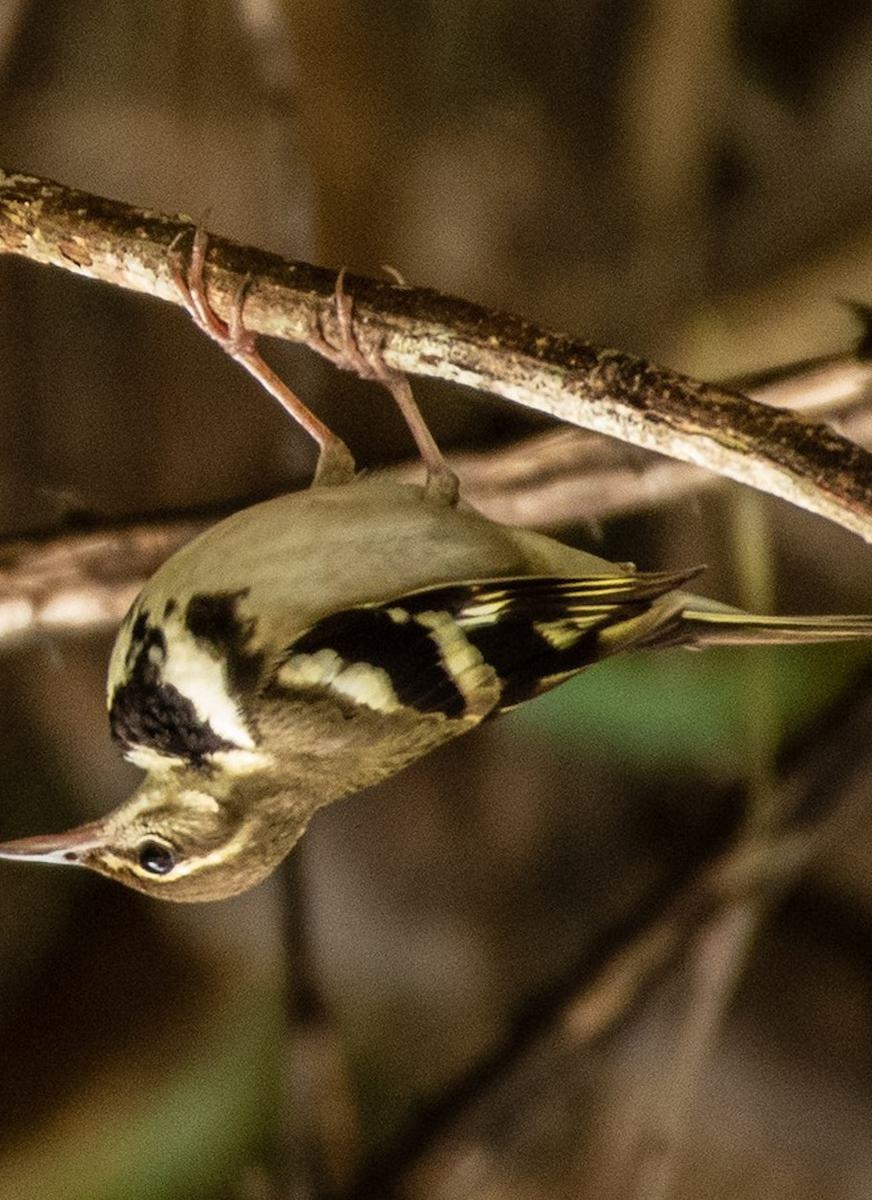wagtail: (17, 431, 853, 904)
